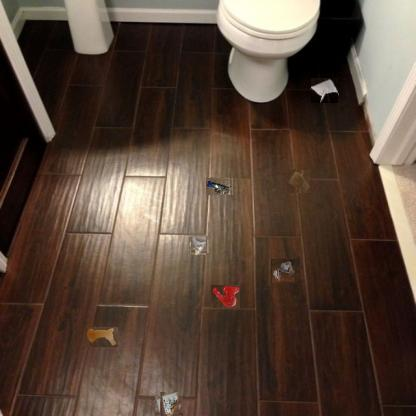dirty: (310, 77, 338, 103), (286, 169, 310, 193), (271, 259, 295, 283), (157, 394, 181, 416), (205, 177, 233, 195), (190, 236, 208, 254)
liquid: (210, 284, 240, 308), (88, 327, 120, 347)
